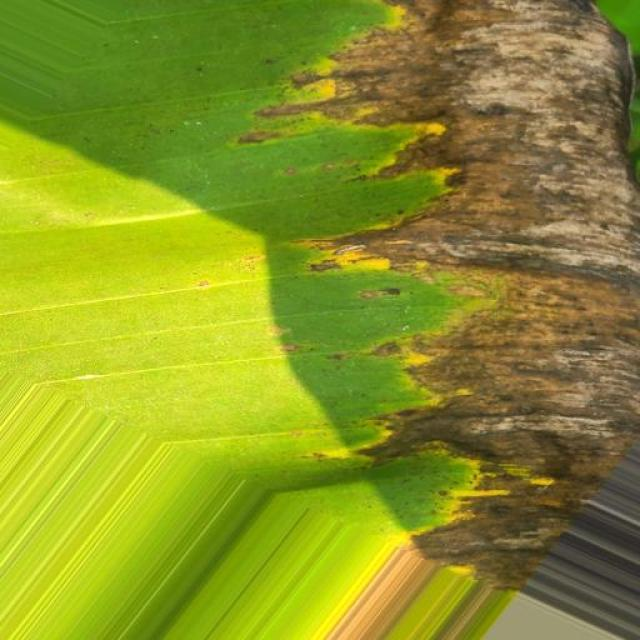Early_rust: (95, 0, 640, 585)
